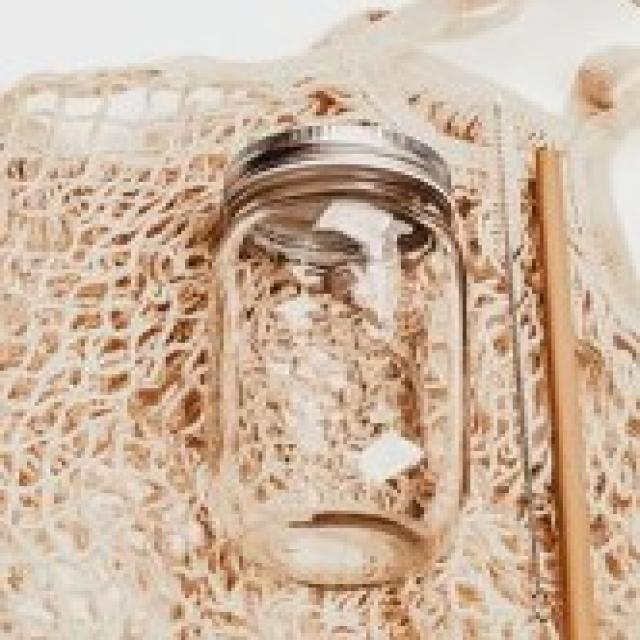electronic: (208, 123, 474, 592)
